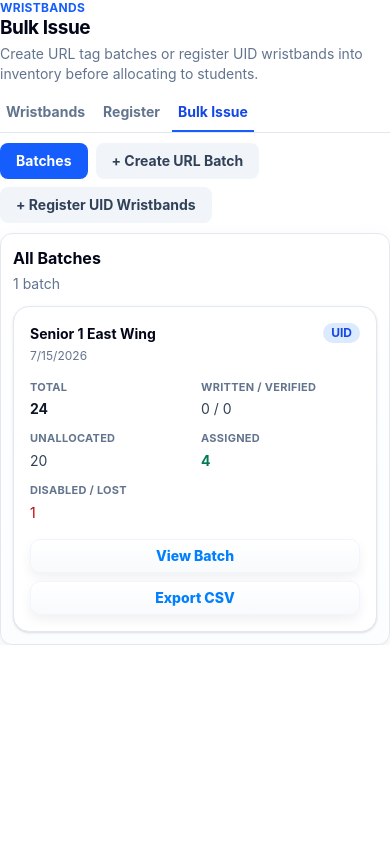
Test: NfcBulkIssuingPage › shows inventory details after opening a batch drill-down
Click the button "View Batch".
click(195, 556)  # box [30,539,360,573]
(page scrolled)
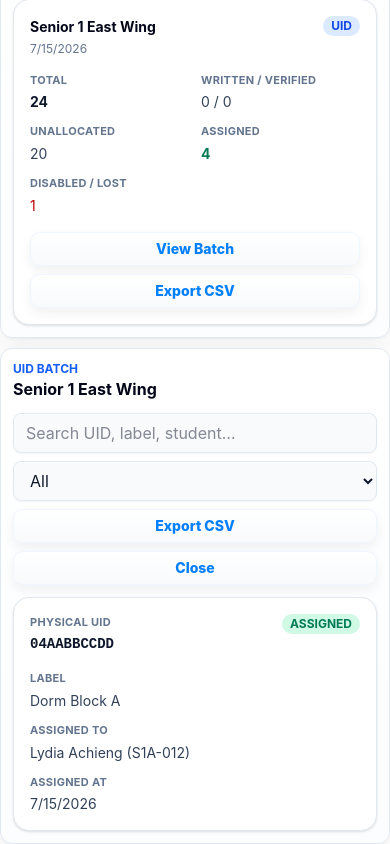
Result: the text "Lydia Achieng (S1A-012)" is shown at [30,744,190,761]
Result: the text "Assigned to" is shown at [30,723,108,737]
Result: the button "Close" is shown at [13,551,377,585]
